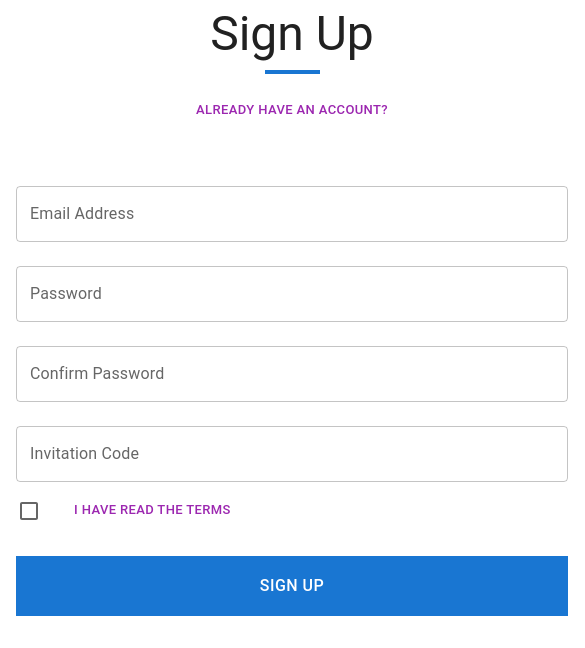
Test: SignUp › should display confirm password error when passwords do not match
The image size is (585, 648).
Type "password" into the password field labelled "Password" at (292, 294), box 16,266 -> 568,322
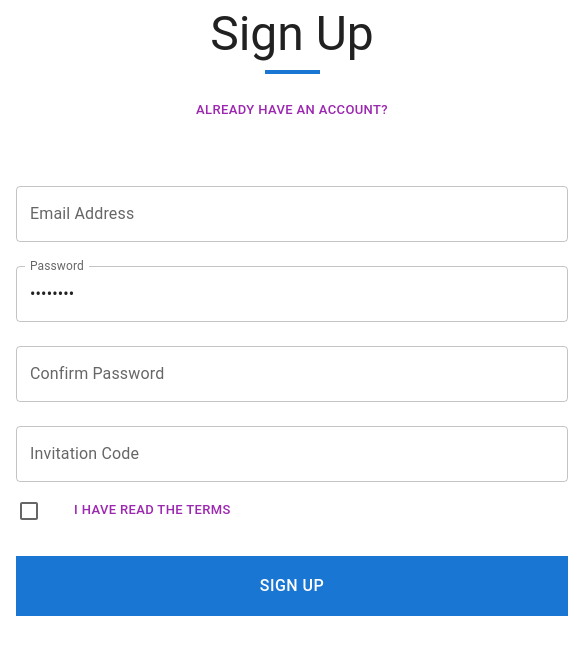
Type "password1" into the password field labelled "Confirm Password" at (292, 374), box 16,346 -> 568,402
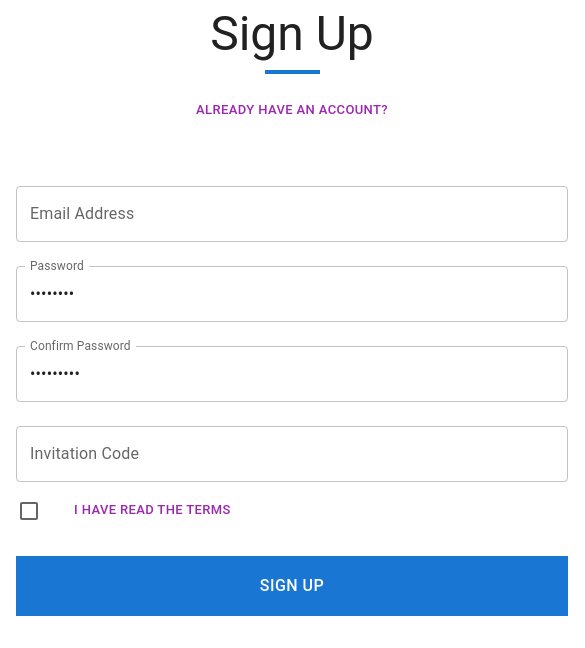
Click the button "Sign up" at (292, 586), box 16,556 -> 568,616
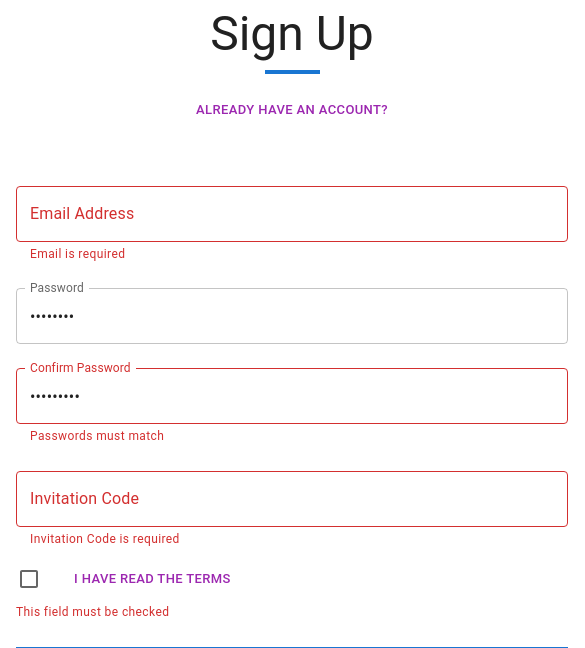
Result: the text "Passwords must match" is shown at 30,430 -> 164,444
